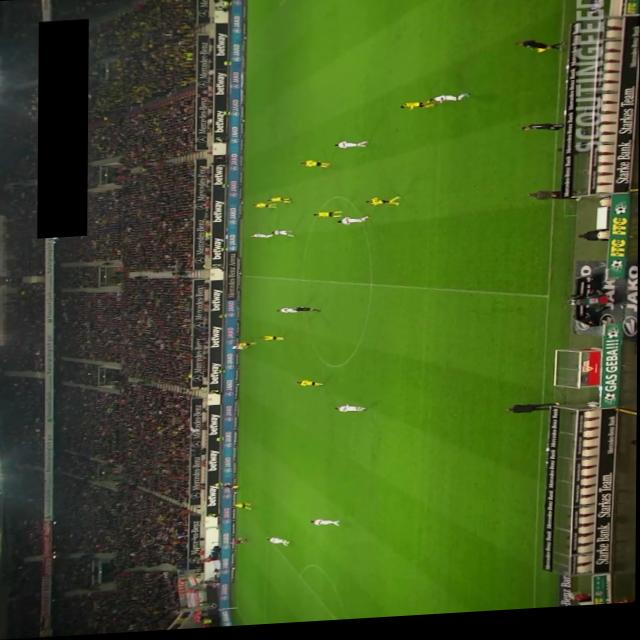player: (365, 199, 401, 211), (428, 98, 470, 108), (400, 104, 437, 115), (337, 219, 371, 230), (334, 143, 369, 153), (300, 162, 330, 172), (335, 407, 367, 416), (310, 521, 341, 530), (266, 538, 291, 549), (296, 382, 324, 391), (313, 214, 345, 221), (275, 309, 303, 317), (252, 204, 278, 212), (272, 232, 295, 241), (259, 337, 285, 344), (233, 504, 252, 513), (251, 234, 275, 241), (267, 199, 291, 206), (230, 540, 250, 547), (236, 343, 257, 349), (231, 347, 251, 352)
referee: (515, 44, 565, 60), (292, 308, 320, 316), (220, 486, 240, 493)
